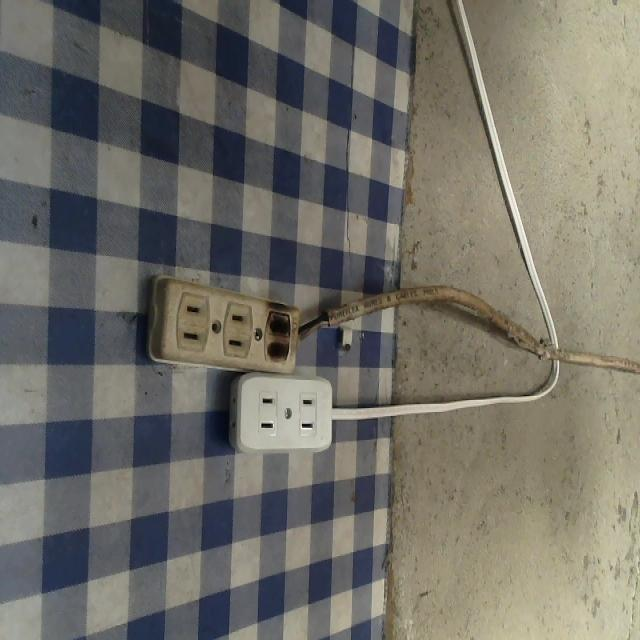-: (256, 304, 300, 367)
